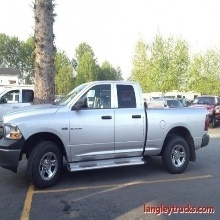no damage: (1, 80, 210, 190), (1, 87, 33, 111)
